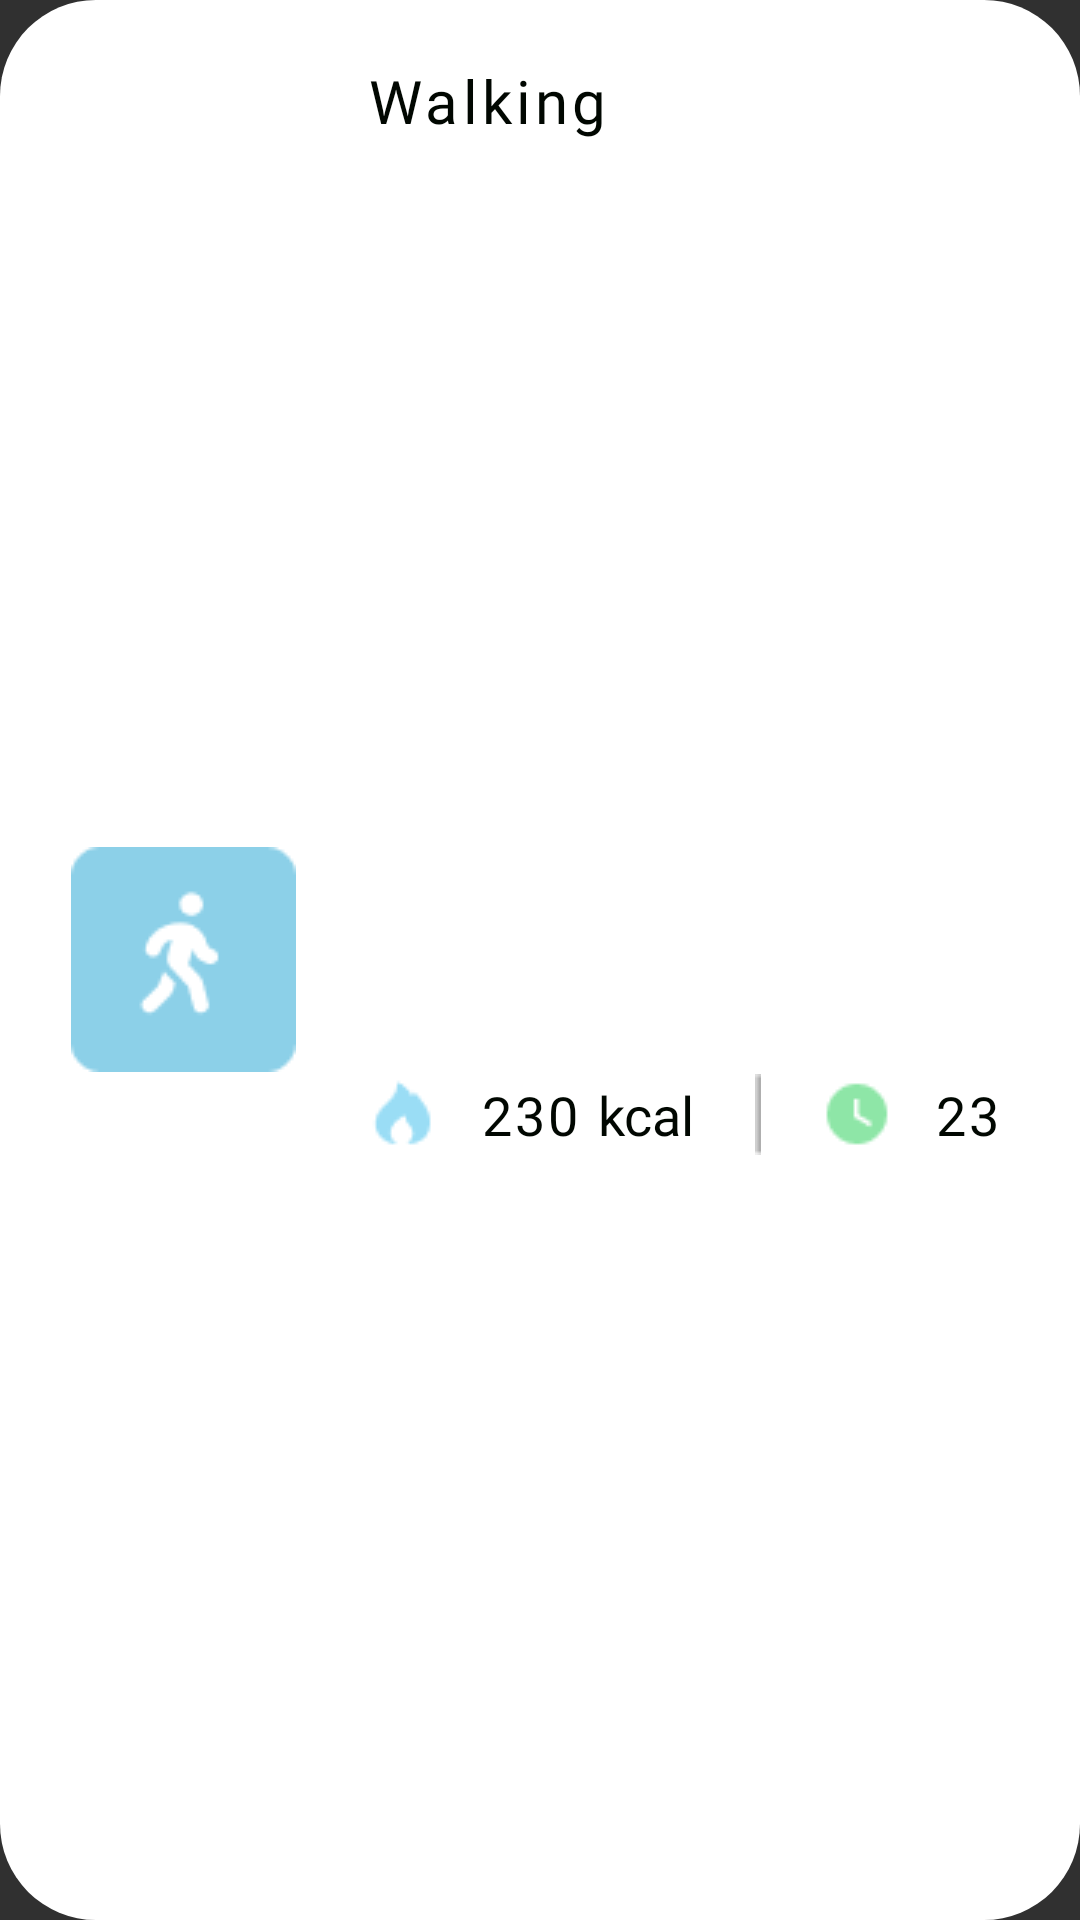

Named icons in this screenshot (1080 × 1920) and their bounding boxes, detection(x1, y1, x2, y2):
calories smallicon: detection(375, 1082, 431, 1145)
time smallicon: detection(826, 1083, 888, 1145)
walk exercise: detection(71, 847, 296, 1072)
